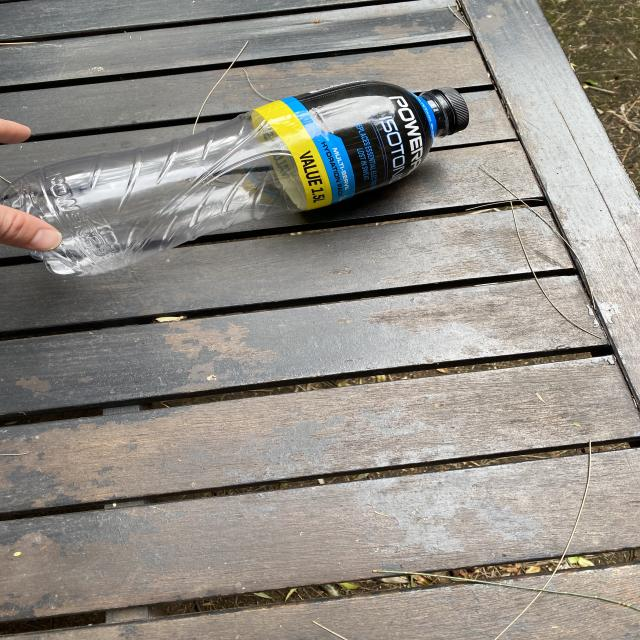bottle: (0, 80, 471, 277)
